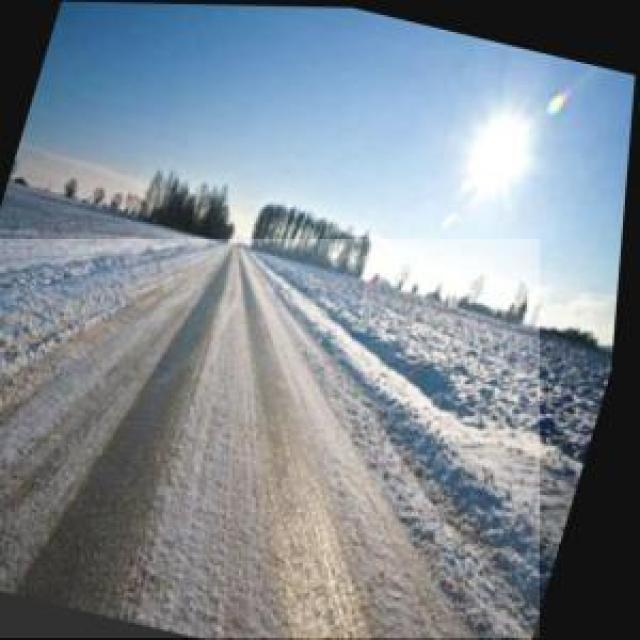ice-road: (0, 240, 540, 640)
